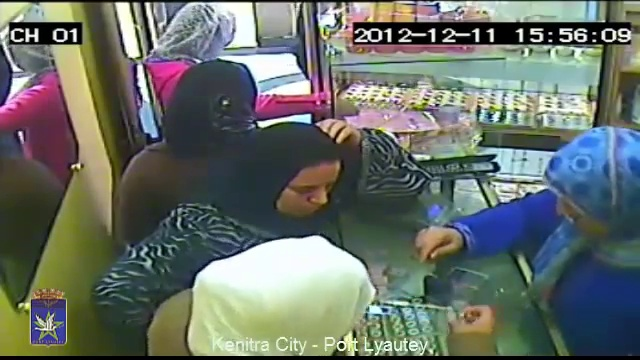face: (282, 172, 337, 222)
